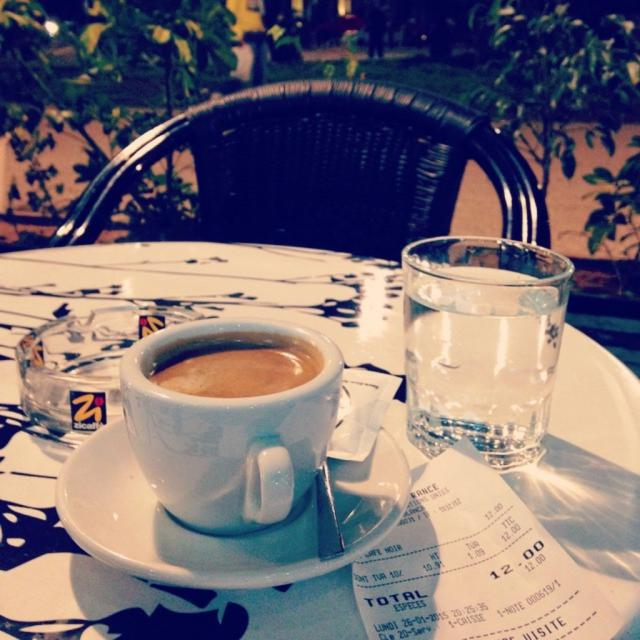Coffee: (109, 308, 346, 539), (146, 332, 316, 401)
Tea: (111, 309, 343, 512), (145, 331, 325, 398)
